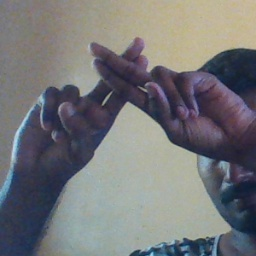F: (49, 26, 204, 143)
